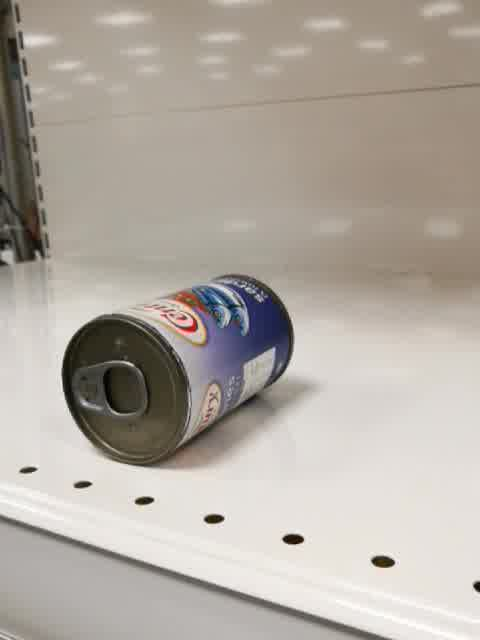sardine: (61, 274, 294, 467)
